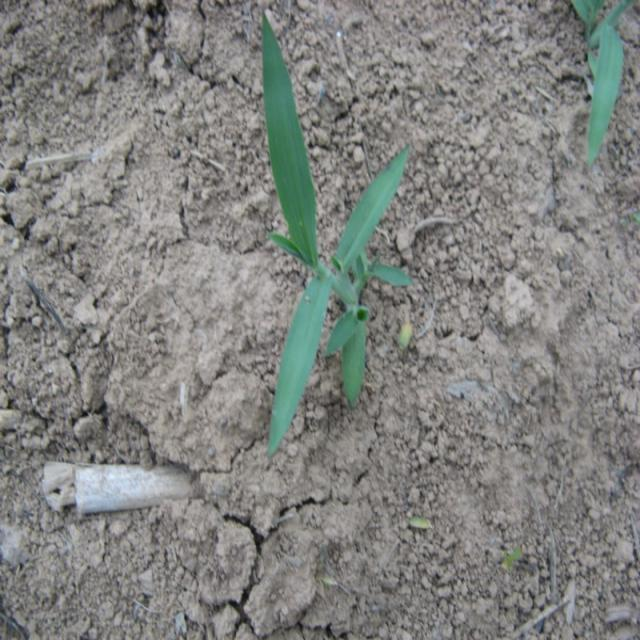bg: (254, 18, 413, 440)
